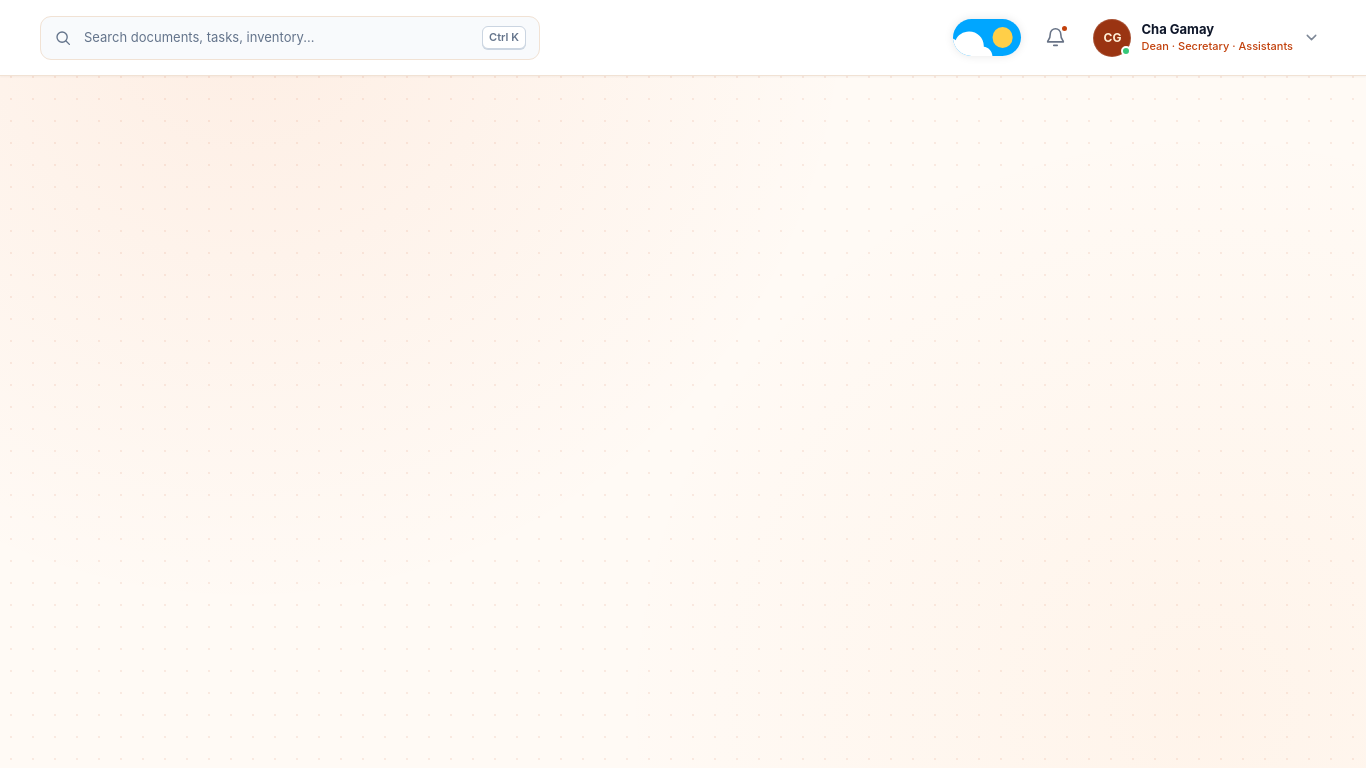
it: deletes a notification without navigating from it
Click the button named "Notifications, 2 unread" at (1056, 38), box [1036,18,1076,58]
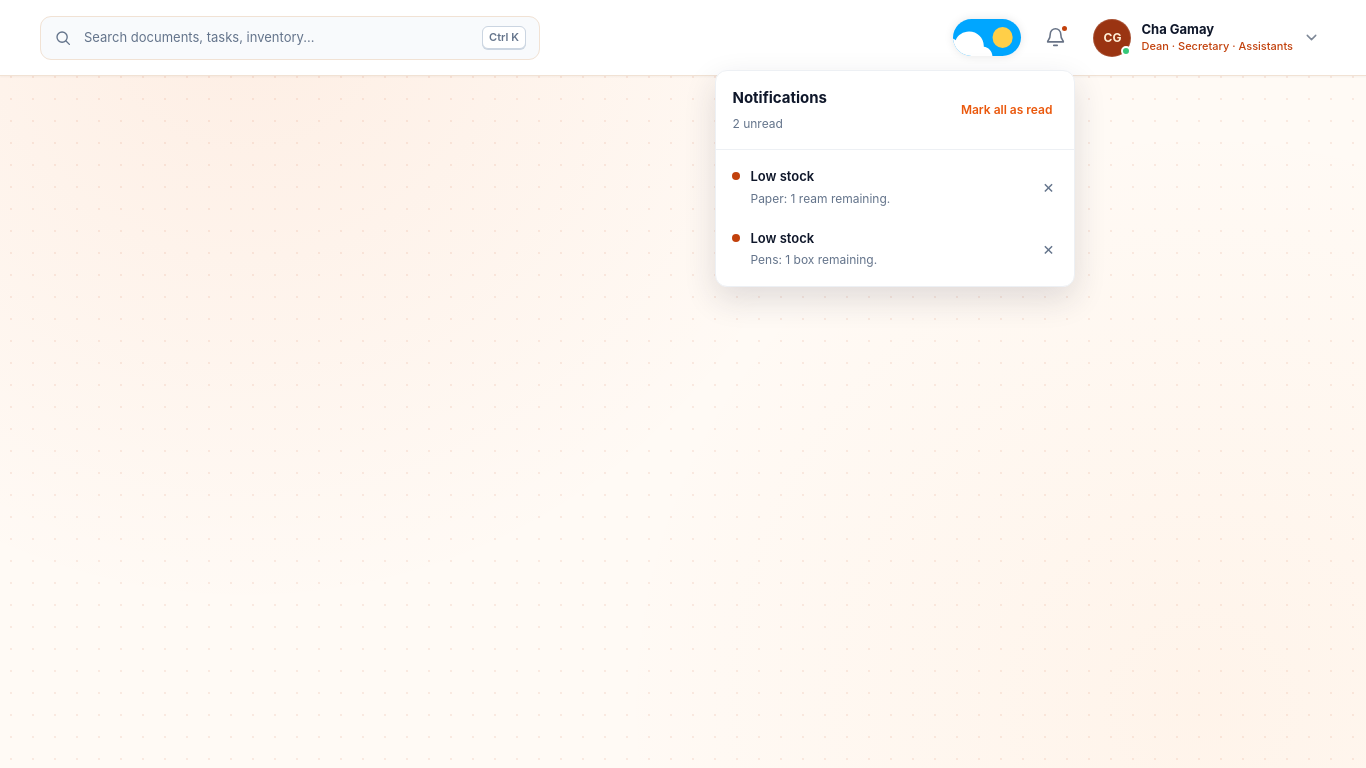
Click the button named "Delete notification: Paper: 1 ream remaining." at (1048, 187), box [1034,172,1064,202]
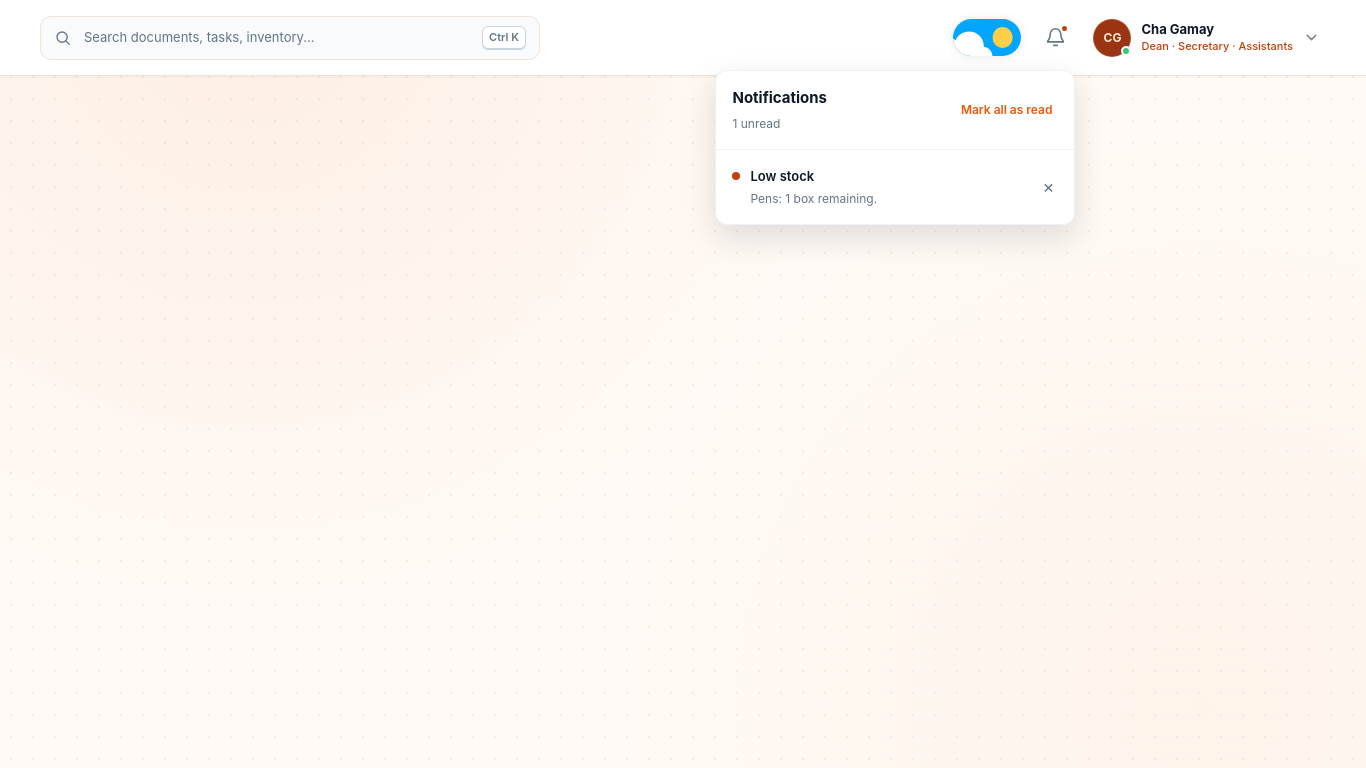
expect the button named "Notifications, 1 unread" is shown: met, box [1036,18,1076,58]
expect the text "Pens: 1 box remaining." is shown: met, box [750,190,877,207]
expect the button "Paper: 1 ream remaining." is gone: met
